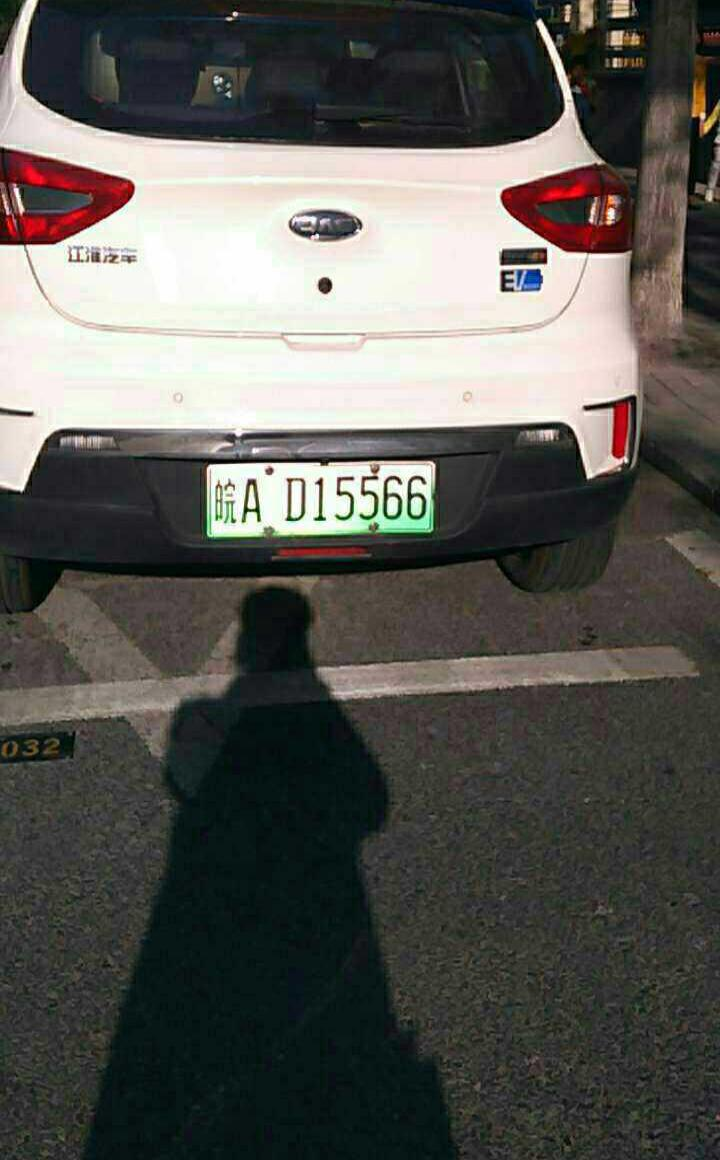car: (200, 463, 432, 540)
